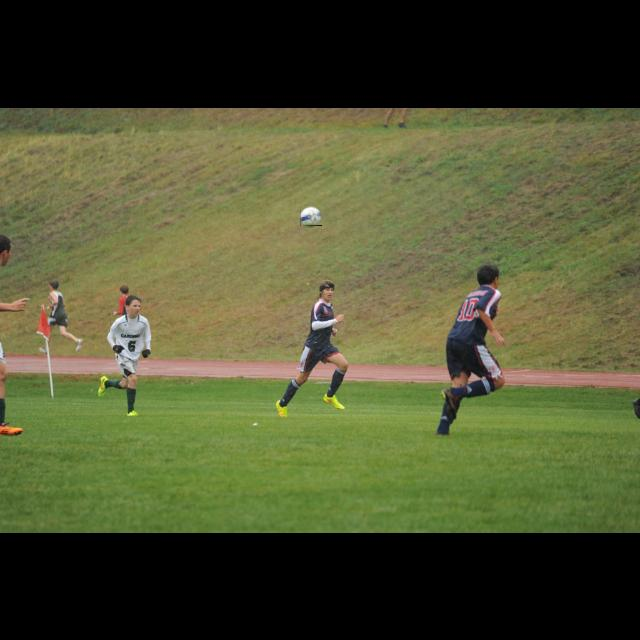Football: (300, 204, 322, 226)
